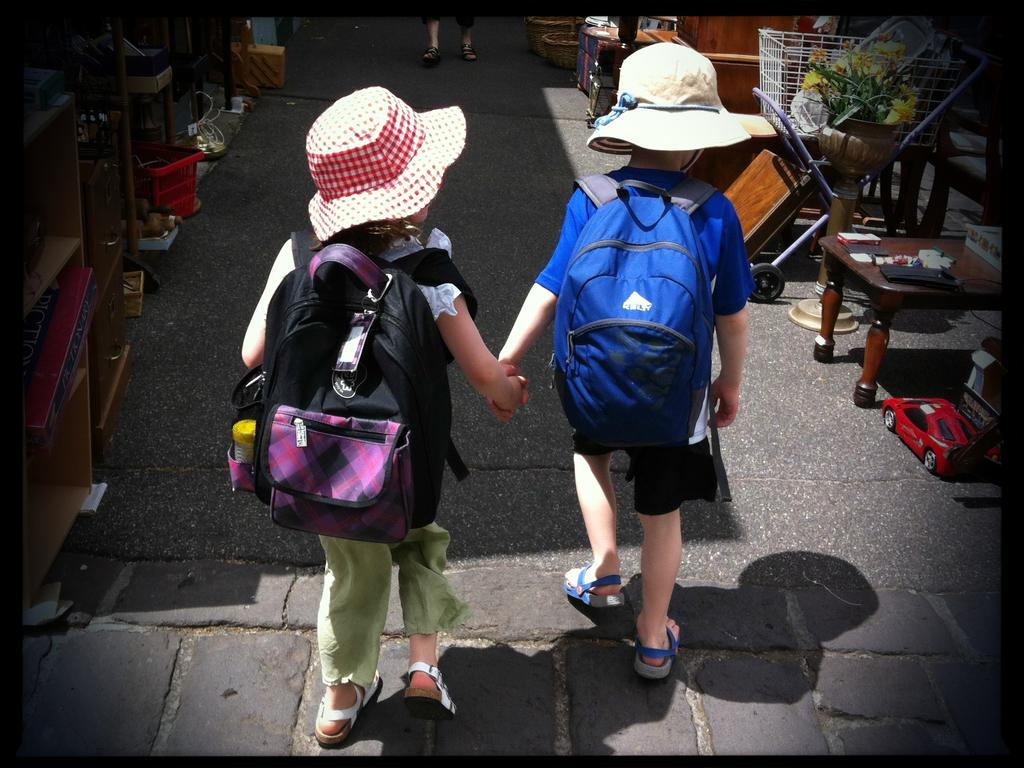Luggage-and-bags: (206, 241, 467, 573), (543, 167, 723, 453)
